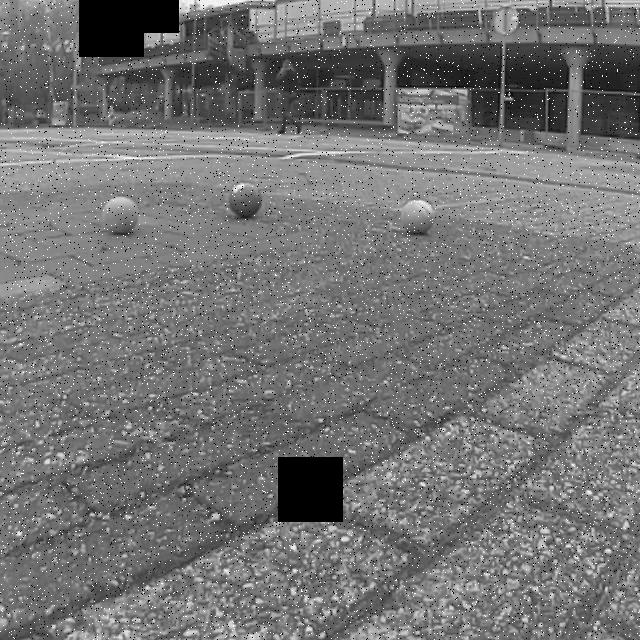ball: (98, 192, 144, 238), (400, 197, 438, 238), (226, 179, 264, 219)
